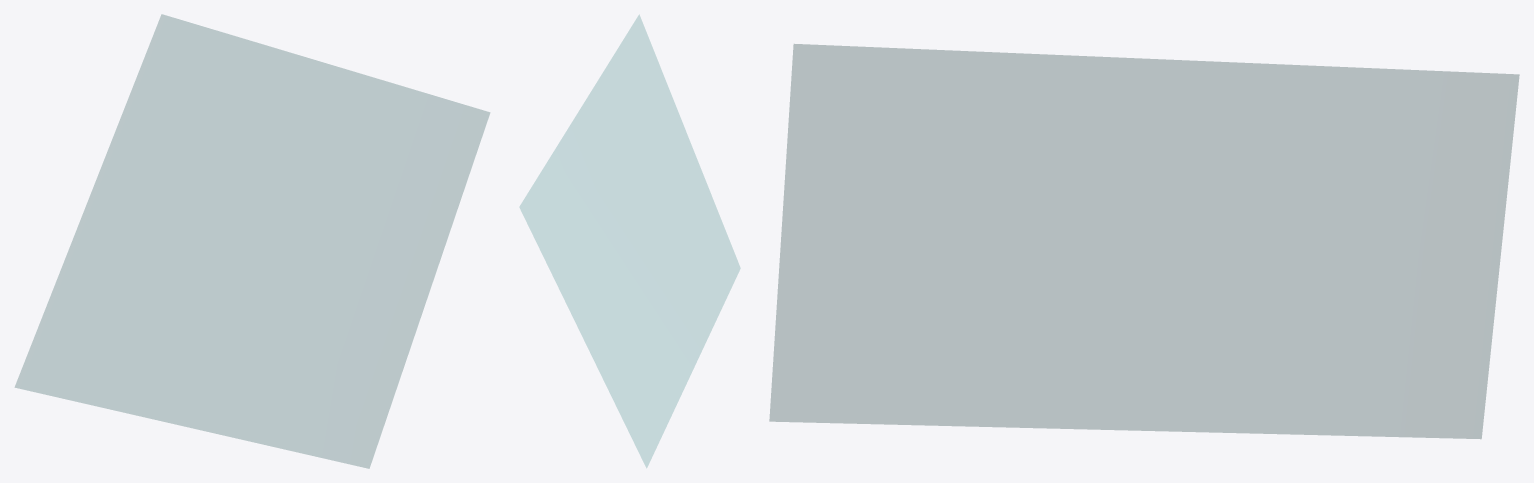
File: Test_hologram.fbx
3 renders of one model, left to right at view 1: azimuth 30°, elevation 25°; view 2: azimuth 150°, elevation 25°; view 3: azimuth 270°, elevation 25°, orthographic. The views are drawn at different scales.
Visible parts, largest first — view 1: SmartSeparate_14; view 2: SmartSeparate_14; view 3: SmartSeparate_14.
Boxes of the visible parts, x1,y1,x2,y2 form: SmartSeparate_14: [15, 14, 489, 468]; SmartSeparate_14: [519, 15, 740, 467]; SmartSeparate_14: [769, 44, 1519, 438].
Size of the model in its own units: 34.23 by 51.99 by 61.97.
